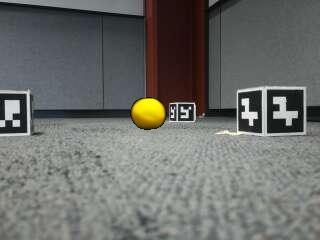lemon: (132, 99, 165, 130)
